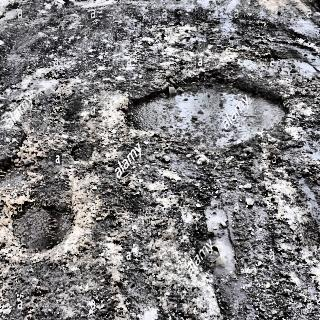pothole: (120, 67, 294, 161), (4, 184, 80, 265)
